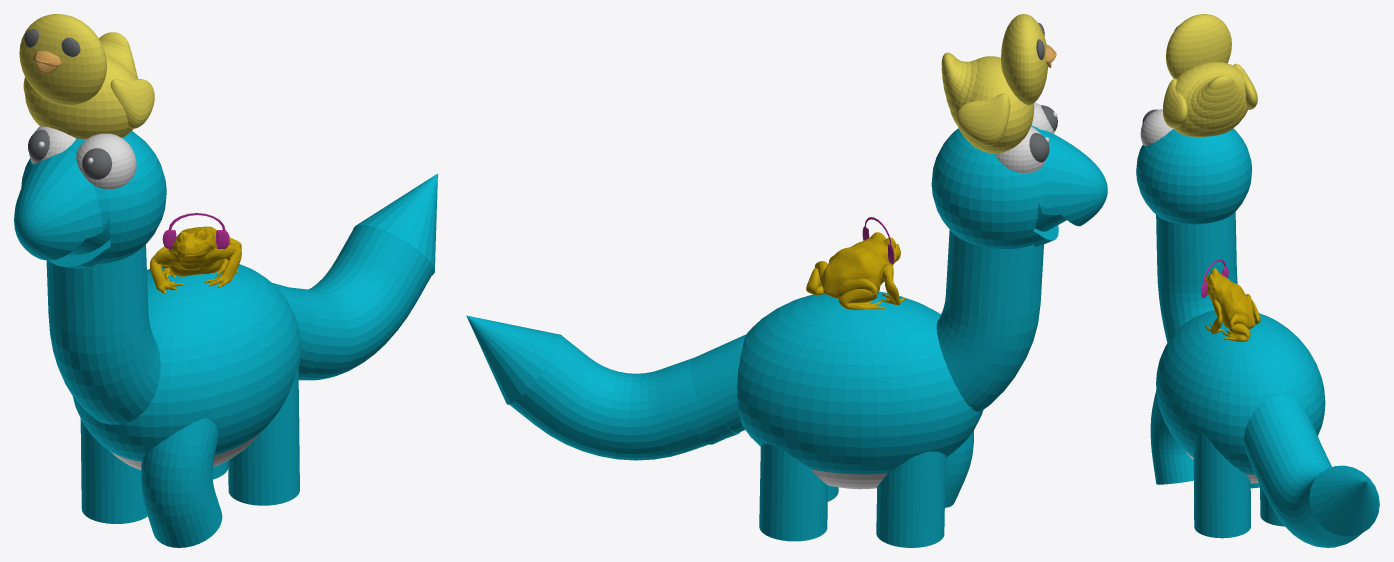
Rendered from asset.glb.
3 renders of one model, left to right at view 1: azimuth 30°, elevation 25°; view 2: azimuth 150°, elevation 25°; view 3: azimuth 270°, elevation 25°, orthographic. The views are drawn at different scales.
Visible parts, largest first — view 1: Mesh_Mesh_head_geo.001_lambert2SG.001; view 2: Mesh_Mesh_head_geo.001_lambert2SG.001; view 3: Mesh_Mesh_head_geo.001_lambert2SG.001.
Boxes of the visible parts, <box> form: Mesh_Mesh_head_geo.001_lambert2SG.001: <box>14,14,437,547</box>; Mesh_Mesh_head_geo.001_lambert2SG.001: <box>466,14,1107,547</box>; Mesh_Mesh_head_geo.001_lambert2SG.001: <box>1136,14,1379,547</box>.
Size of the model in its own units: 112 by 106 by 54.54.
